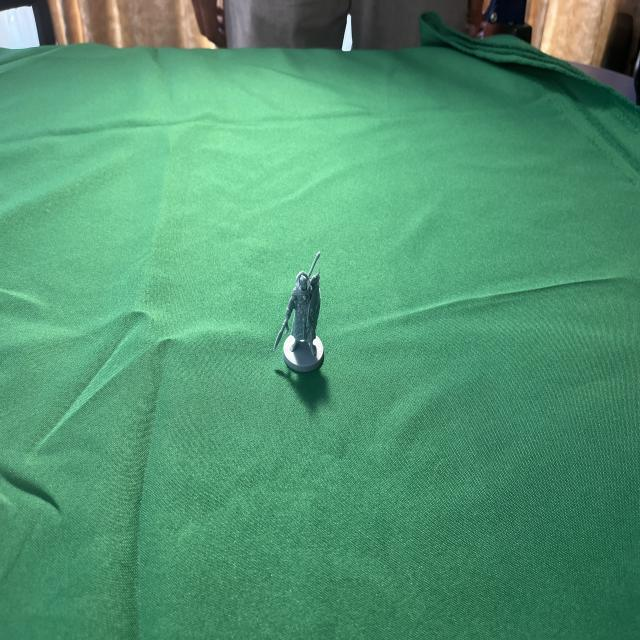isis_follower: (272, 254, 331, 379)
